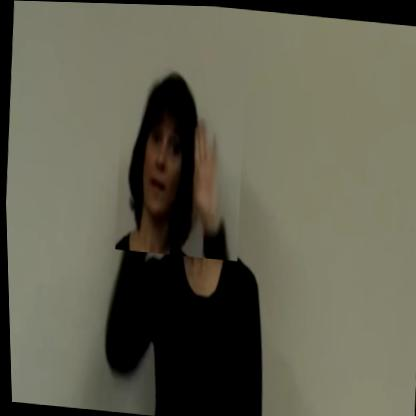Hello: (109, 57, 249, 260)
